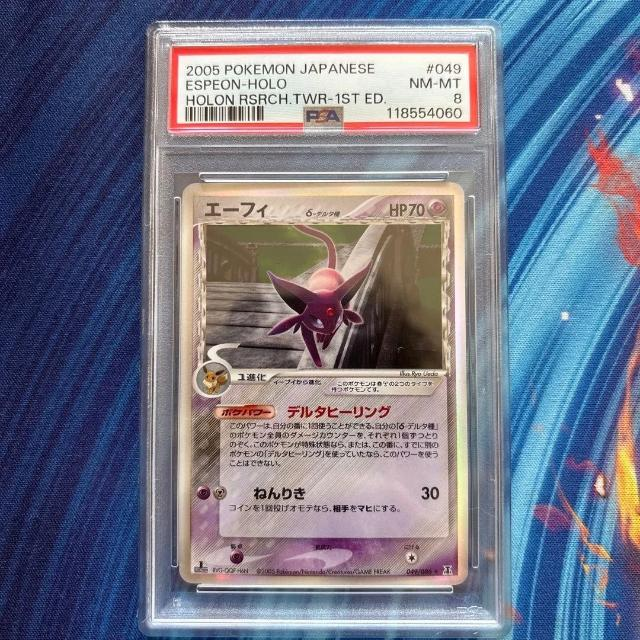Card: (173, 177, 473, 591)
Name: (199, 197, 273, 225)
